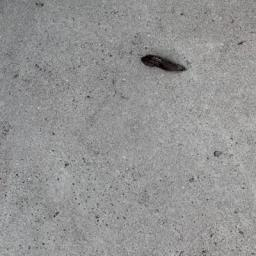FOD: (140, 50, 189, 78)
